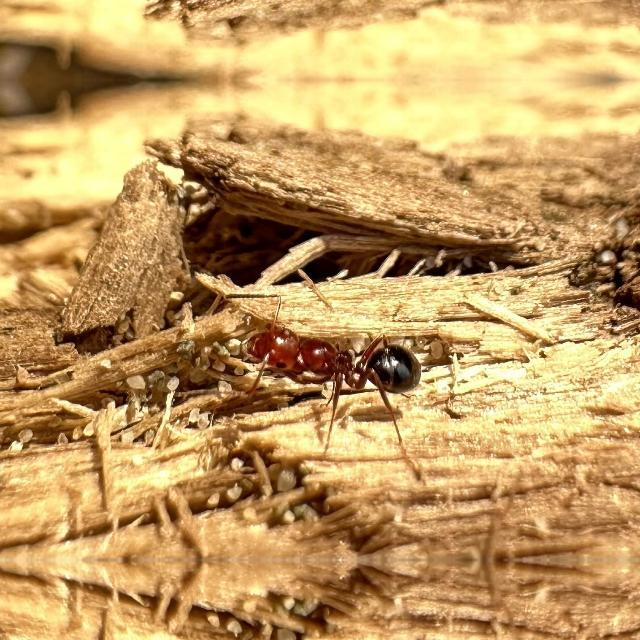Camponotus: (232, 312, 436, 416)
